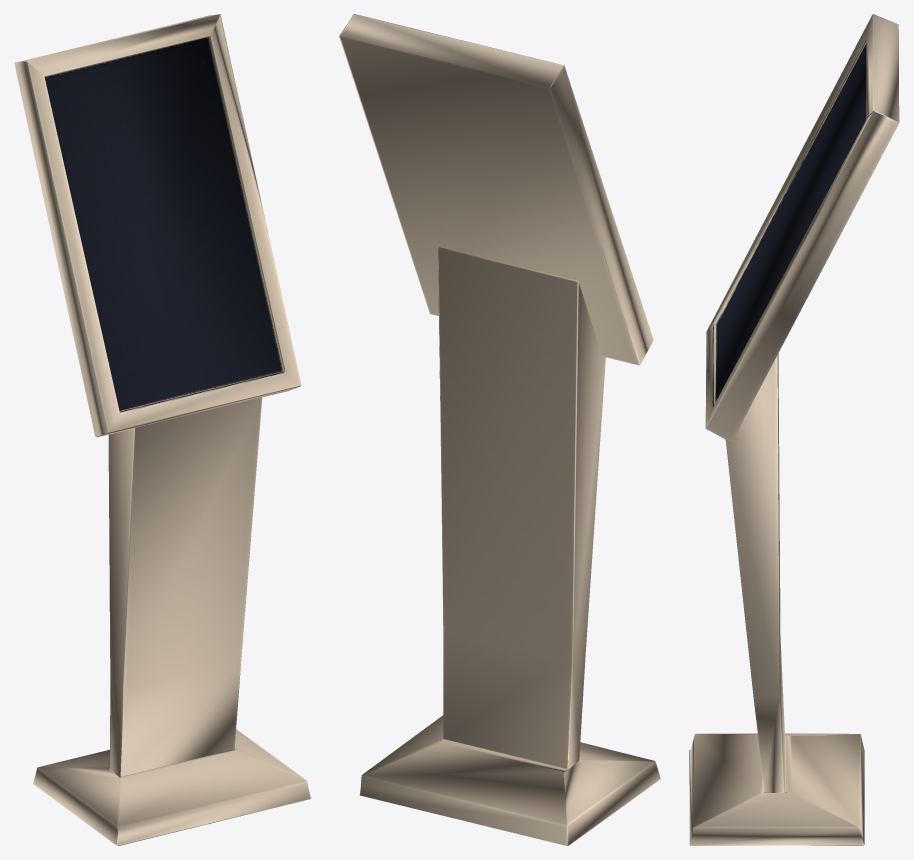
The model's file is info_stand.fbx.
3 views of the same model, side by side, from view 1: azimuth 30°, elevation 25°; view 2: azimuth 150°, elevation 25°; view 3: azimuth 270°, elevation 25° (orthographic). The views are drawn at different scales.
Parts seen in each view (by area): view 1: Mesh_0; view 2: Mesh_0; view 3: Mesh_0.
Boxes of the visible parts, <box> form: Mesh_0: <box>14,14,310,845</box>; Mesh_0: <box>339,14,660,845</box>; Mesh_0: <box>689,14,899,845</box>.
Size of the model in its own units: 26.86 by 95.07 by 24.56.
Materials: 1 (1 with a texture image).
